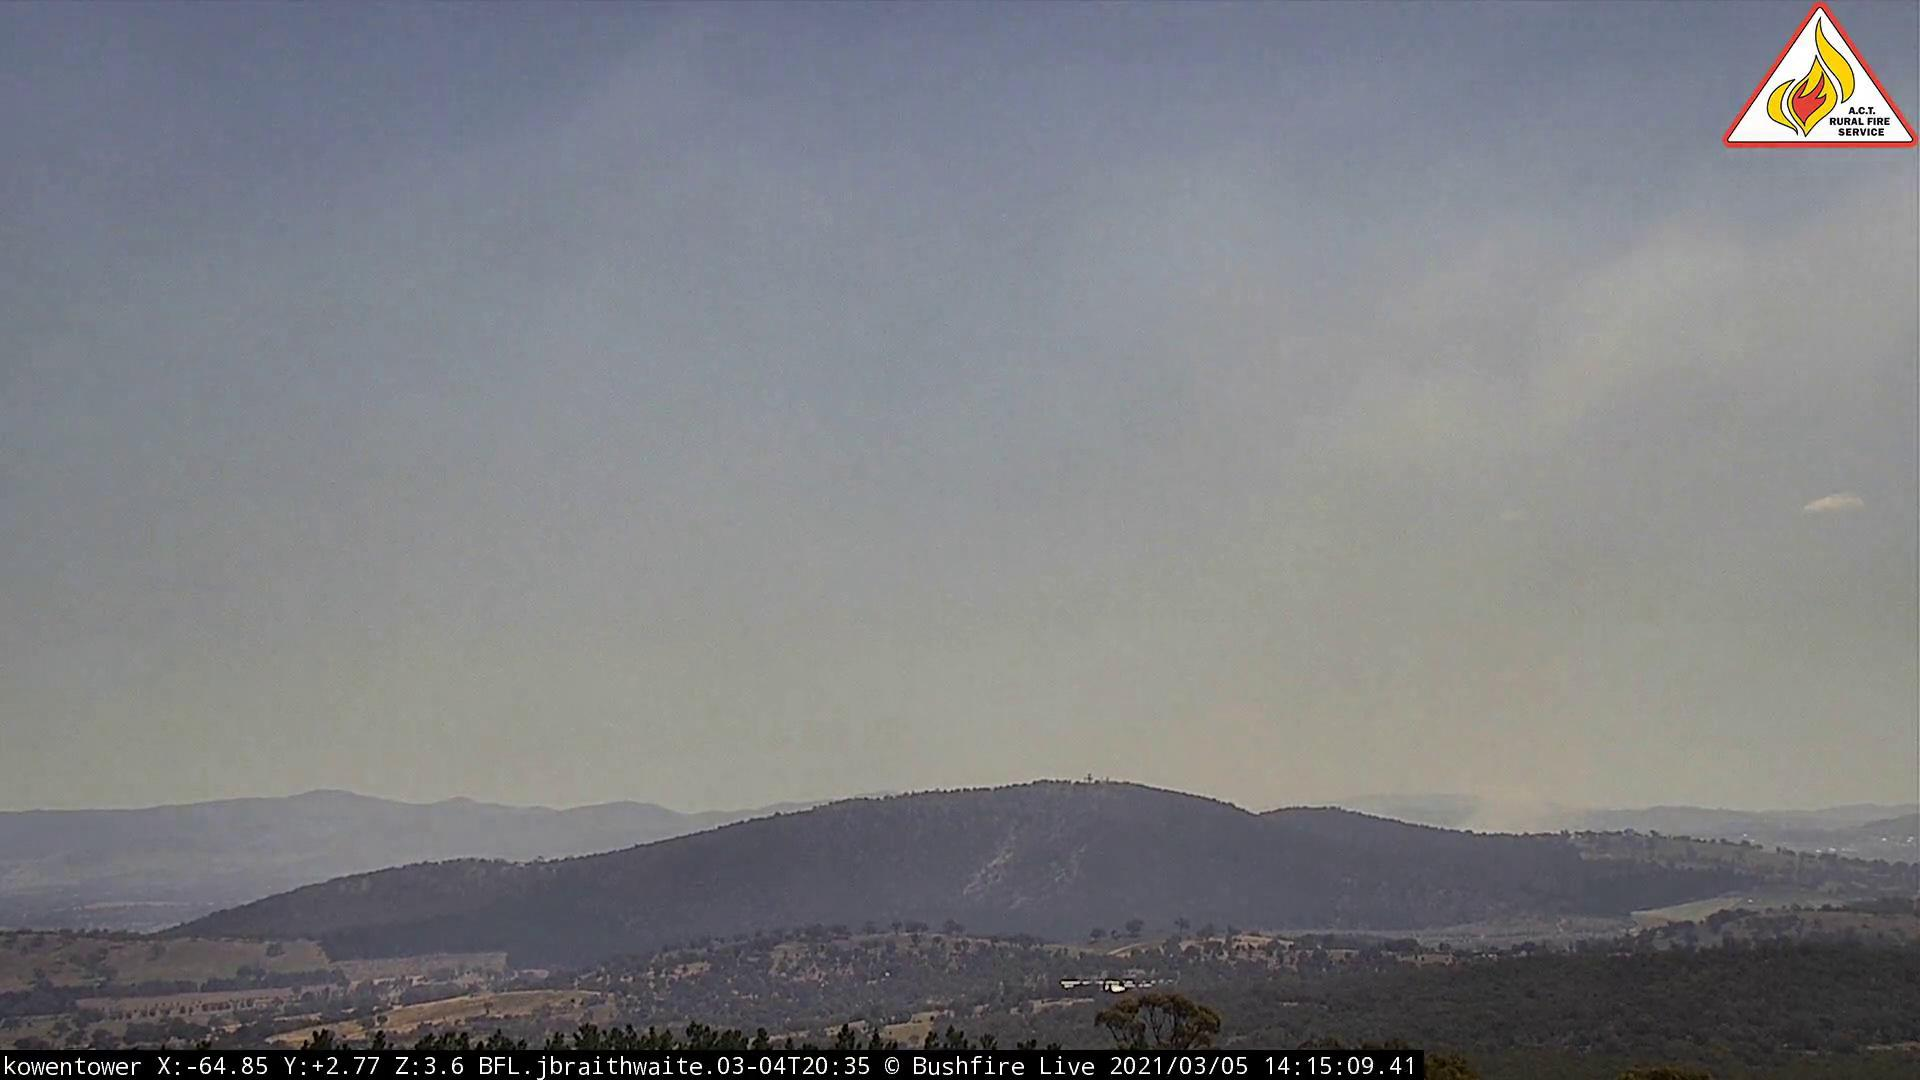Smoke: (1345, 291, 1774, 849)
